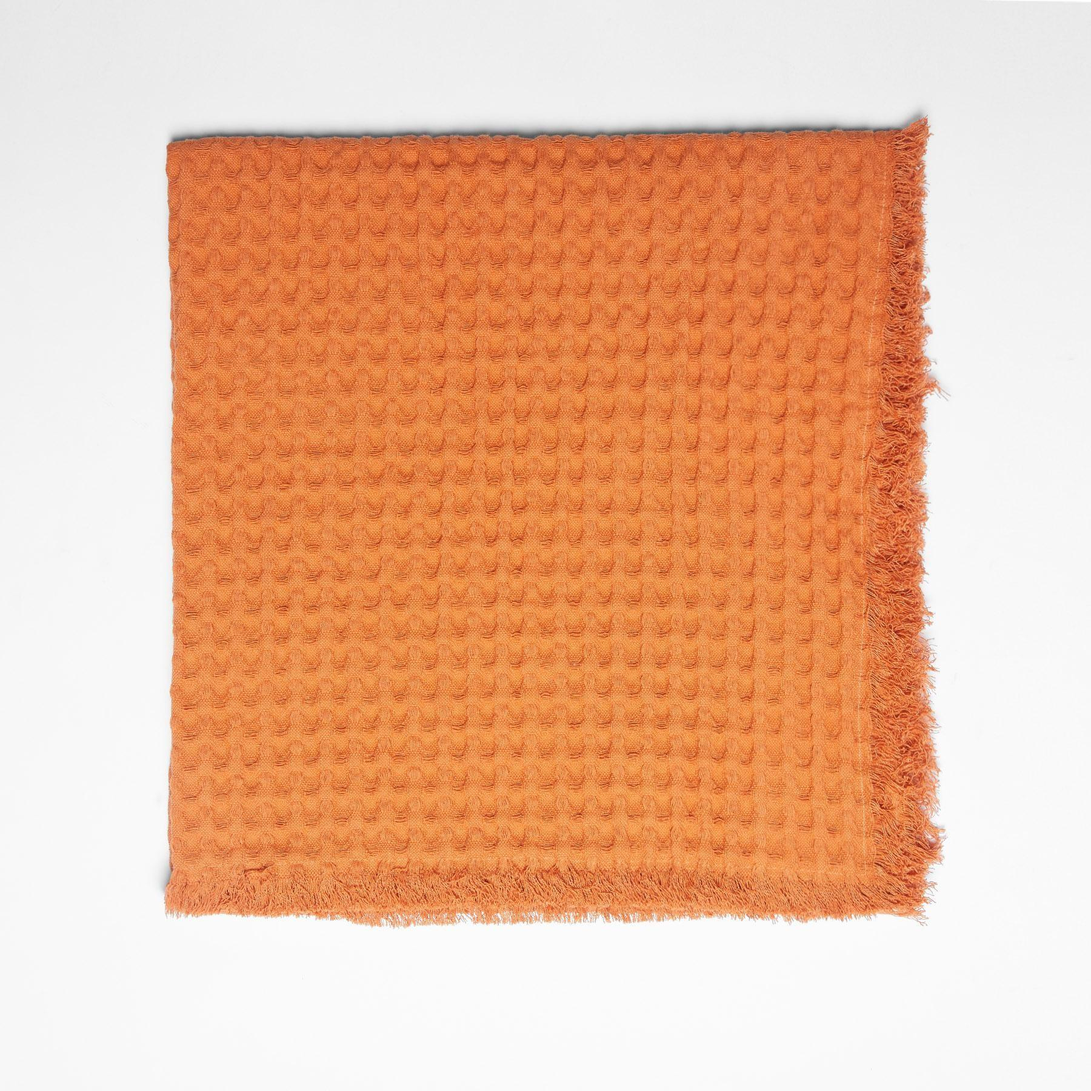Towel: (148, 115, 955, 949)
